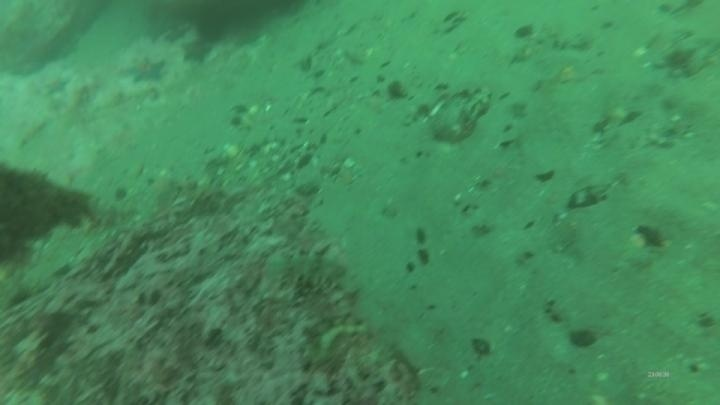holothurian: (260, 246, 358, 301)
starfish: (120, 53, 169, 88), (175, 38, 212, 69), (159, 22, 189, 46), (43, 71, 73, 95)
